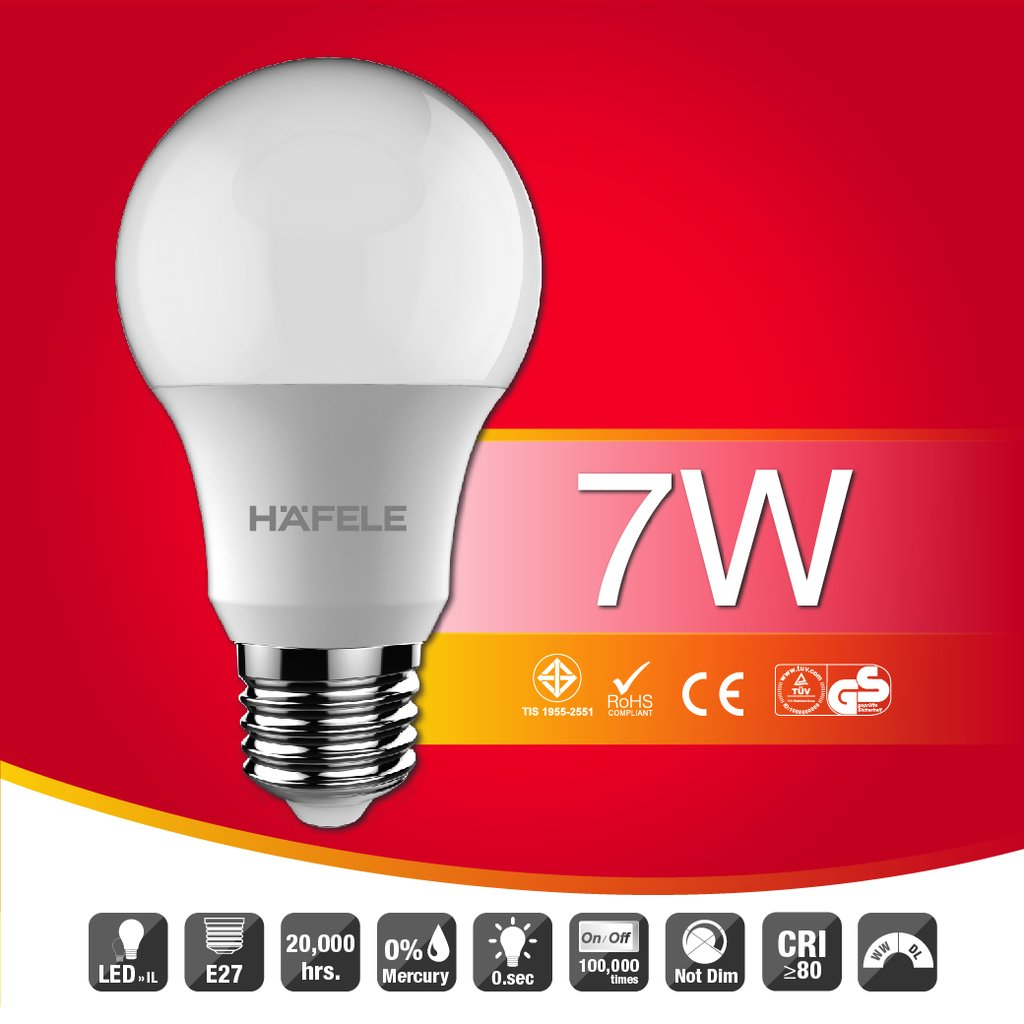Light_bulb: (96, 43, 576, 843)
